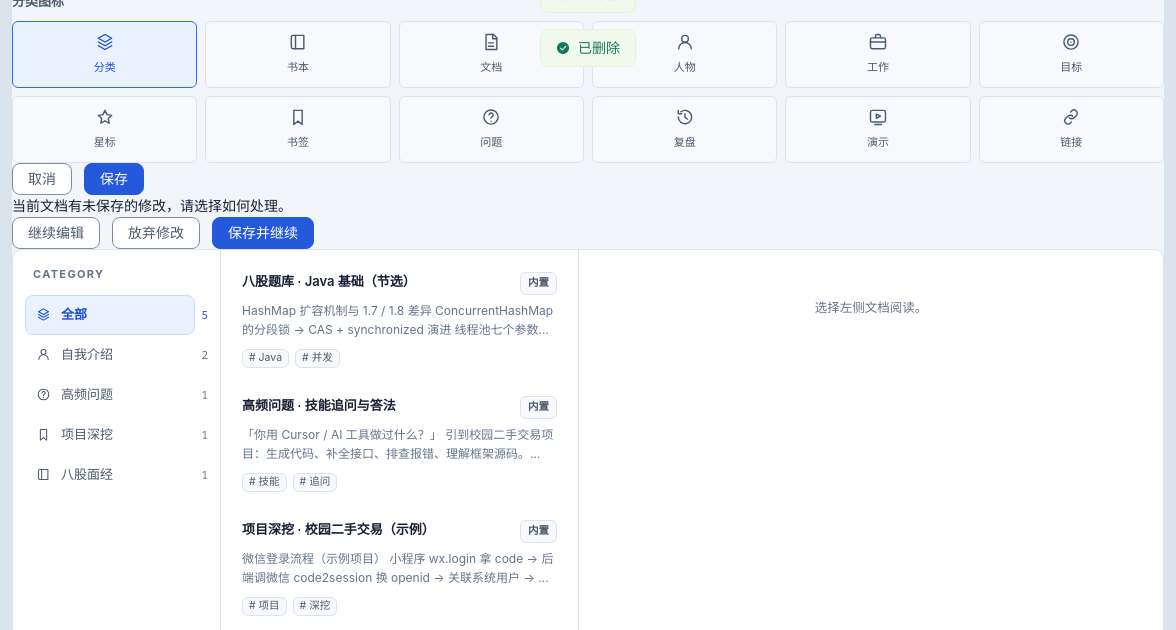
it: LibraryView › 内置文档编辑入口为「另存并编辑副本」且保存产生 runtime 覆盖
(page scrolled)
Click the button with class "lib-item" that starts with "八股题库 · Java 基础（节选）" at (400, 320), box [229, 258, 570, 382]
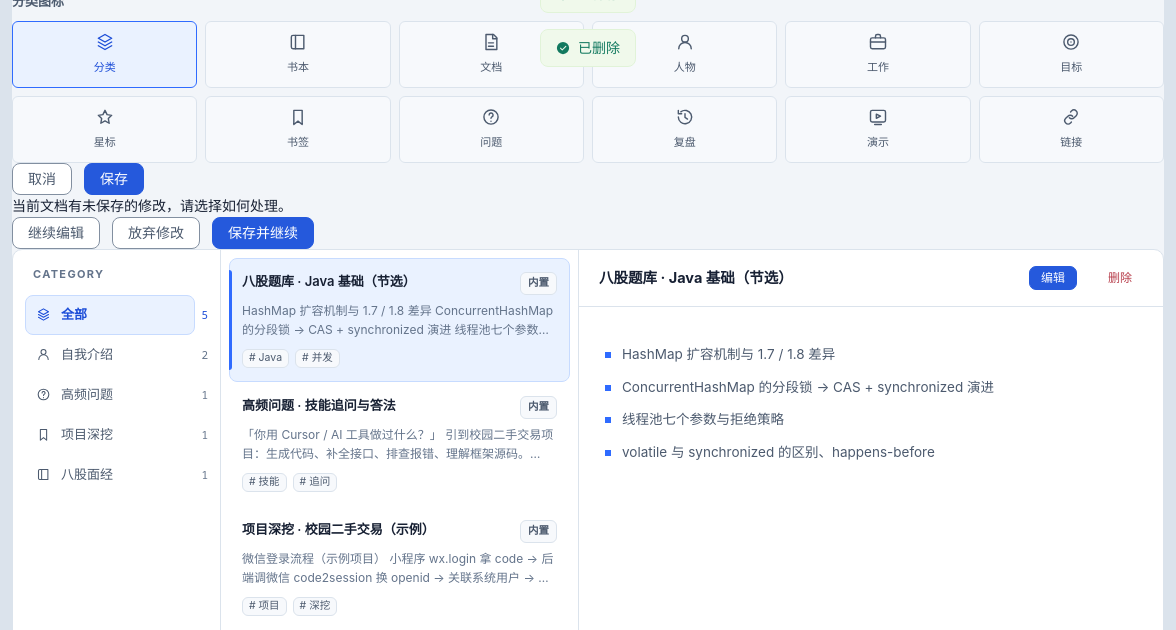
Check: the button with class "edit-btn" reads "编辑"
Click the button with class "edit-btn" at (1053, 278), box [1029, 266, 1077, 290]
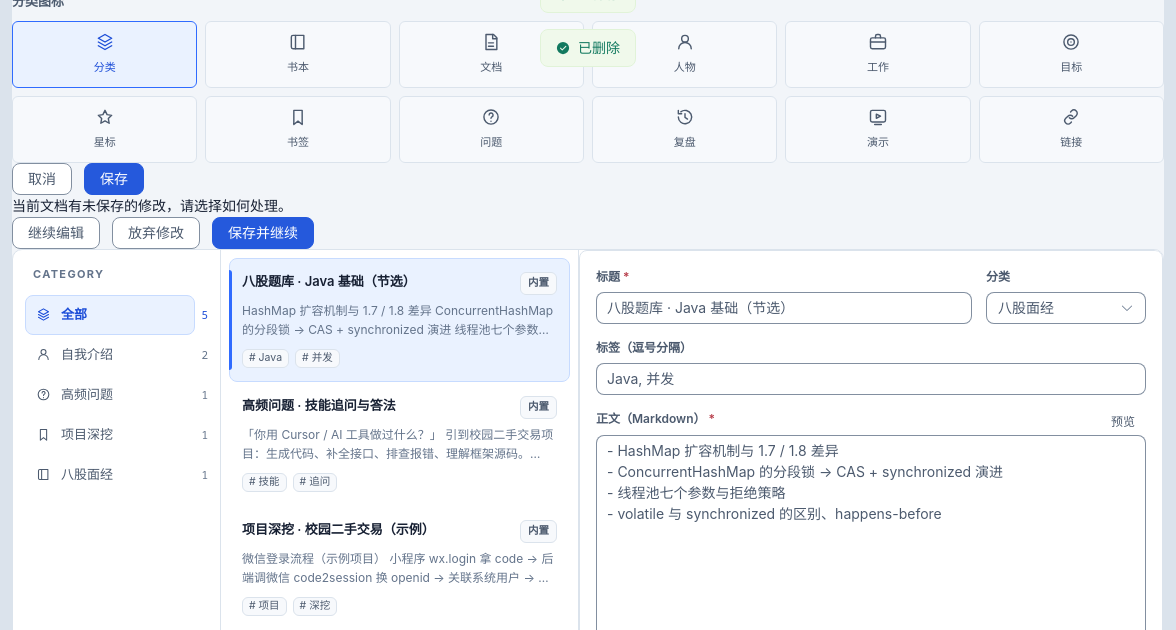
Replace the text in the field labelled "标题 *" with "八股题库 · 我的版本" at (784, 308), box [607, 293, 961, 323]
(page scrolled)
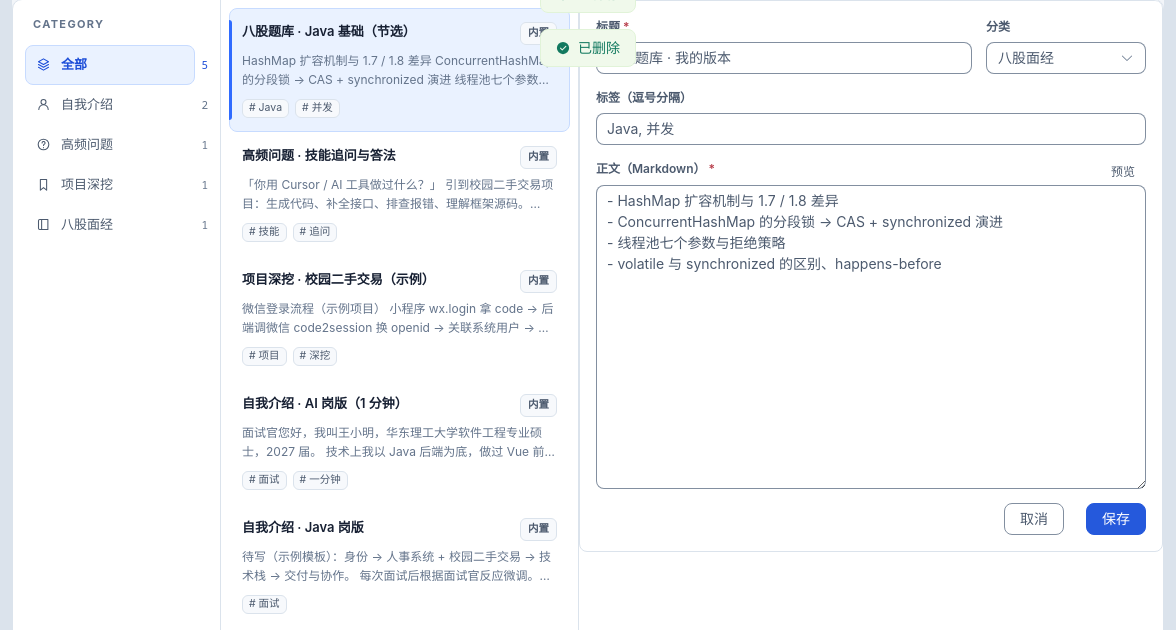
Click the button with class "editor-save" at (1116, 518), box [1086, 502, 1146, 534]
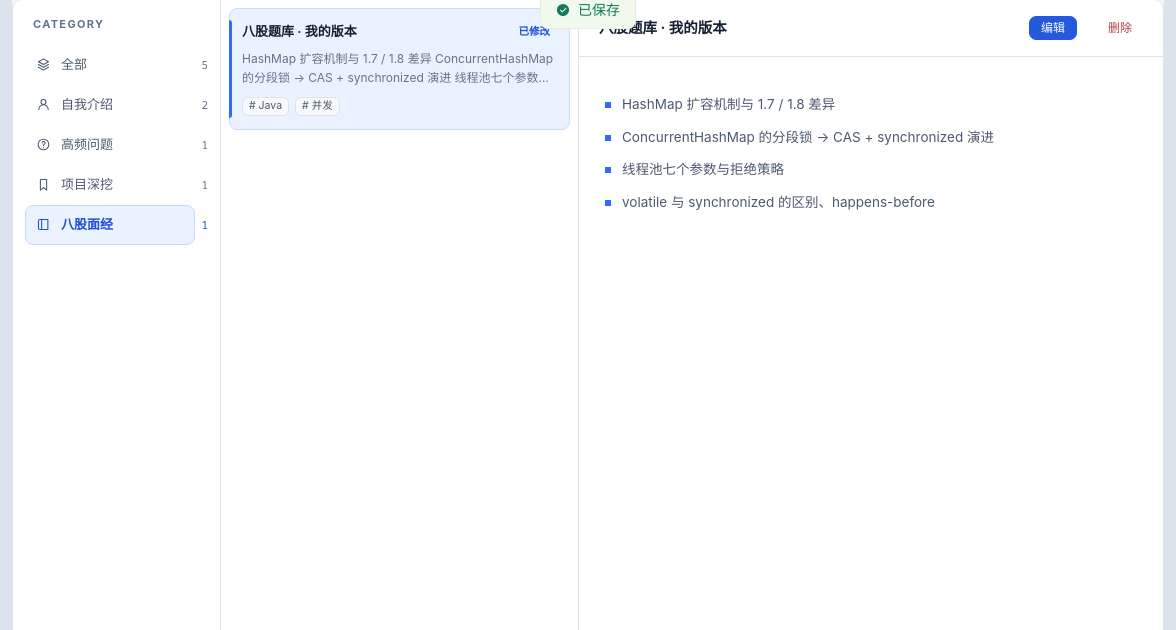
Check: the text "八股题库 · 我的版本" is shown, box [242, 22, 357, 41]
